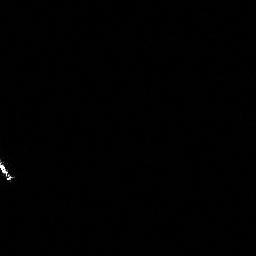ship: (1, 155, 17, 183)
